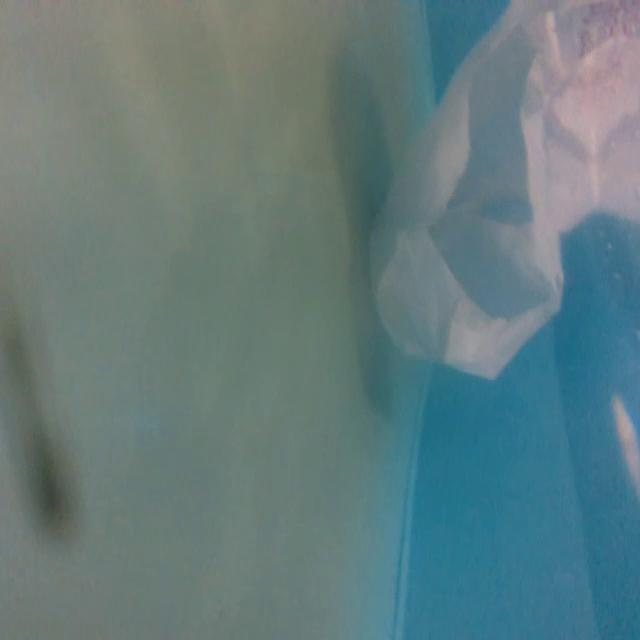plastic bags: (360, 2, 640, 385)
